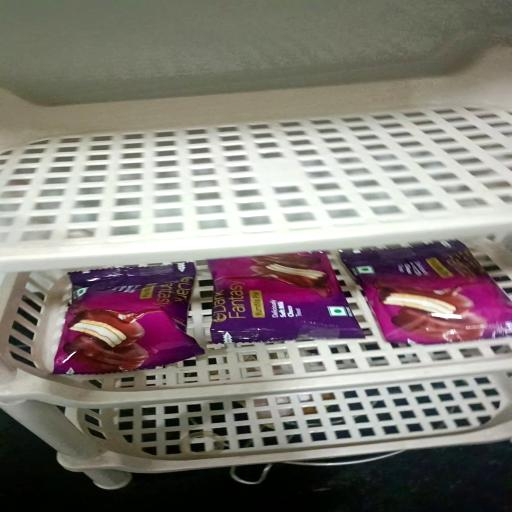Choco Pie: (340, 241, 511, 347), (53, 264, 202, 375), (211, 252, 366, 344)
